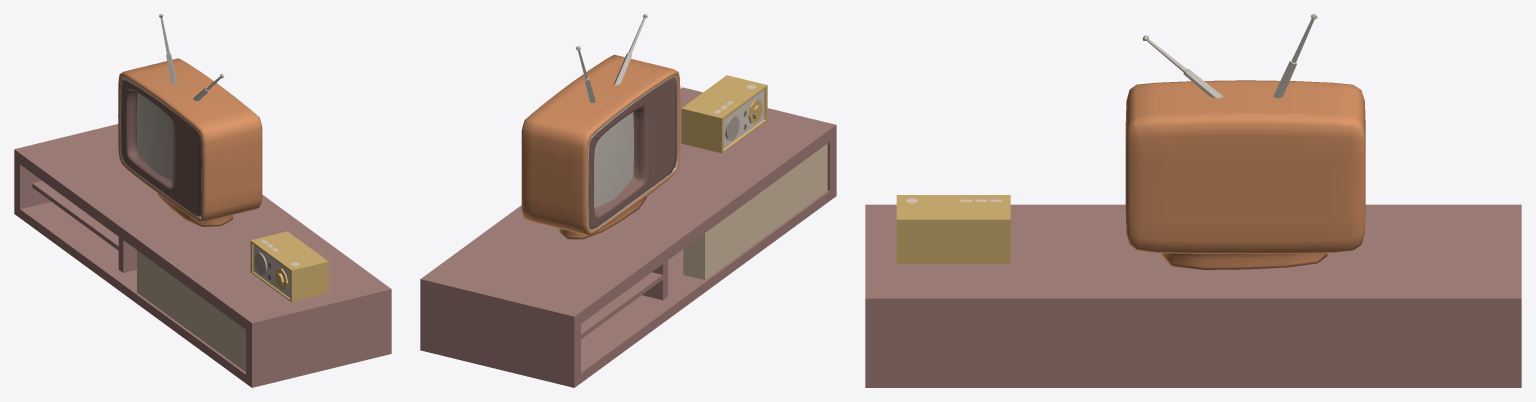
Rendered from tv-stand-transformed.glb.
3 renders of one model, left to right at view 1: azimuth 30°, elevation 25°; view 2: azimuth 150°, elevation 25°; view 3: azimuth 270°, elevation 25°, orthographic. The views are drawn at different scales.
Parts seen in each view (by area): view 1: Merged Geometry.011, Cube 60, Cube 59.001, Cube 60.001, Cube 61.001, Cube 58, Cube 62.001, Cube 62, Merged Geometry.005; view 2: Merged Geometry.011, Cube 60, Cube 60.001, Cube 59.001, Cube 61.001, Cube 58, Cube 62.001, Cube 62, Merged Geometry.005; view 3: Merged Geometry.011, Cube 60, Cube 61.001, Merged Geometry.005.
Boxes of the visible parts, box(x1,y1,x2,y2) form: Merged Geometry.011: box(14, 124, 391, 387); Cube 60: box(118, 58, 262, 226); Cube 59.001: box(121, 79, 201, 216); Cube 60.001: box(137, 250, 245, 371); Cube 61.001: box(250, 231, 328, 302); Cube 58: box(136, 93, 172, 180); Cube 62.001: box(253, 245, 290, 297); Cube 62: box(120, 77, 202, 218); Merged Geometry.005: box(159, 14, 224, 101); Merged Geometry.011: box(420, 87, 836, 387); Cube 60: box(521, 54, 680, 239); Cube 60.001: box(683, 143, 827, 279); Cube 59.001: box(588, 77, 677, 229); Cube 61.001: box(681, 75, 767, 153); Cube 58: box(593, 112, 633, 208); Cube 62.001: box(723, 90, 764, 148); Cube 62: box(587, 75, 677, 231); Merged Geometry.005: box(576, 14, 647, 102); Merged Geometry.011: box(865, 204, 1521, 387); Cube 60: box(1125, 80, 1365, 269); Cube 61.001: box(896, 195, 1010, 263); Merged Geometry.005: box(1142, 14, 1317, 98).
Size of the model in its own units: 1.19 by 1.93 by 3.51.
